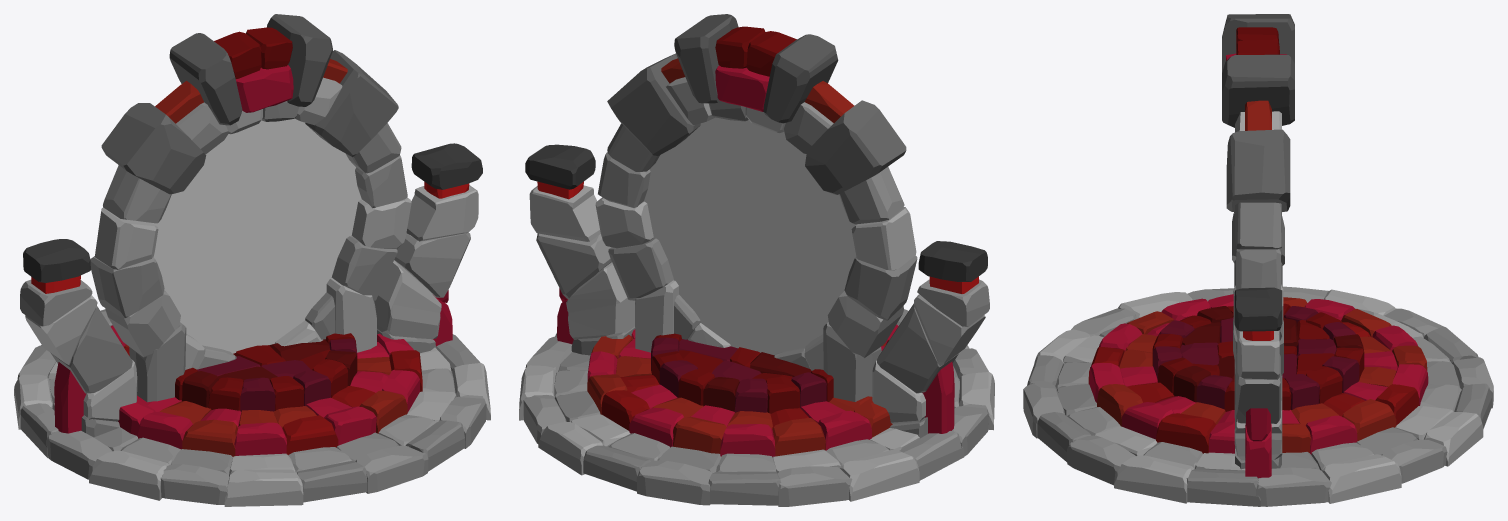
Rendered from Portal02.fbx.
3 renders of one model, left to right at view 1: azimuth 30°, elevation 25°; view 2: azimuth 150°, elevation 25°; view 3: azimuth 270°, elevation 25°, orthographic.
Parts seen in each view (by area): view 1: LOD0; view 2: LOD0; view 3: LOD0.
Part boxes in pixels (box(x1,y1,x2,y2)): LOD0: box(14, 14, 490, 506); LOD0: box(519, 14, 994, 506); LOD0: box(1023, 14, 1493, 506).
Size of what is drawn, in the model's own units: 829 by 769 by 672.
